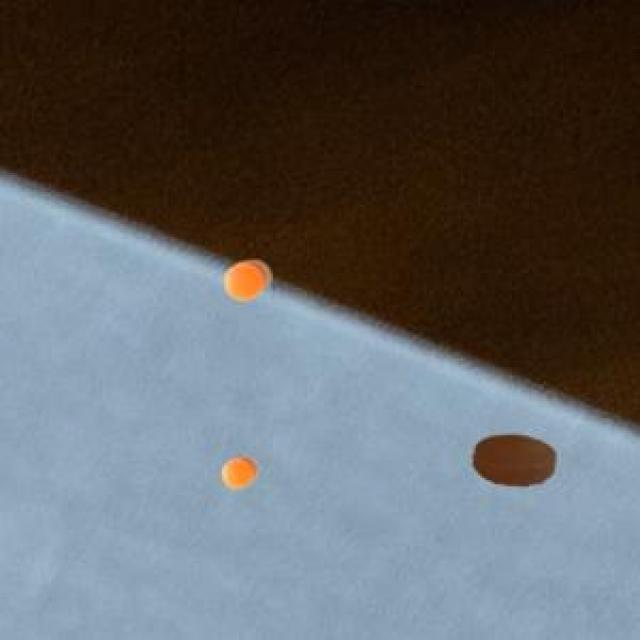Bactidol: (453, 416, 567, 500), (213, 244, 278, 308), (209, 446, 270, 502)
